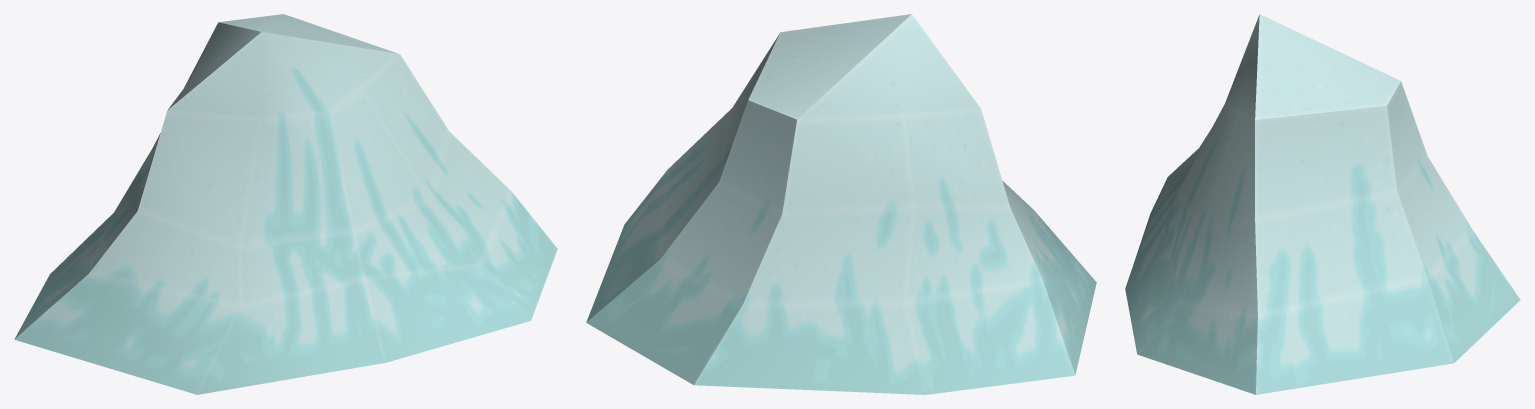
The model's file is env_Ice_Hill_D.FBX.
3 views of the same model, side by side, from view 1: azimuth 30°, elevation 25°; view 2: azimuth 150°, elevation 25°; view 3: azimuth 270°, elevation 25° (orthographic). The views are drawn at different scales.
Parts seen in each view (by area): view 1: env_Ice_Hill_D; view 2: env_Ice_Hill_D; view 3: env_Ice_Hill_D.
Boxes of the visible parts, <box> form: env_Ice_Hill_D: <box>14,14,557,394</box>; env_Ice_Hill_D: <box>586,14,1096,394</box>; env_Ice_Hill_D: <box>1125,14,1520,394</box>.
Bounding box in the file's own units: 1577 × 864 × 1220.
